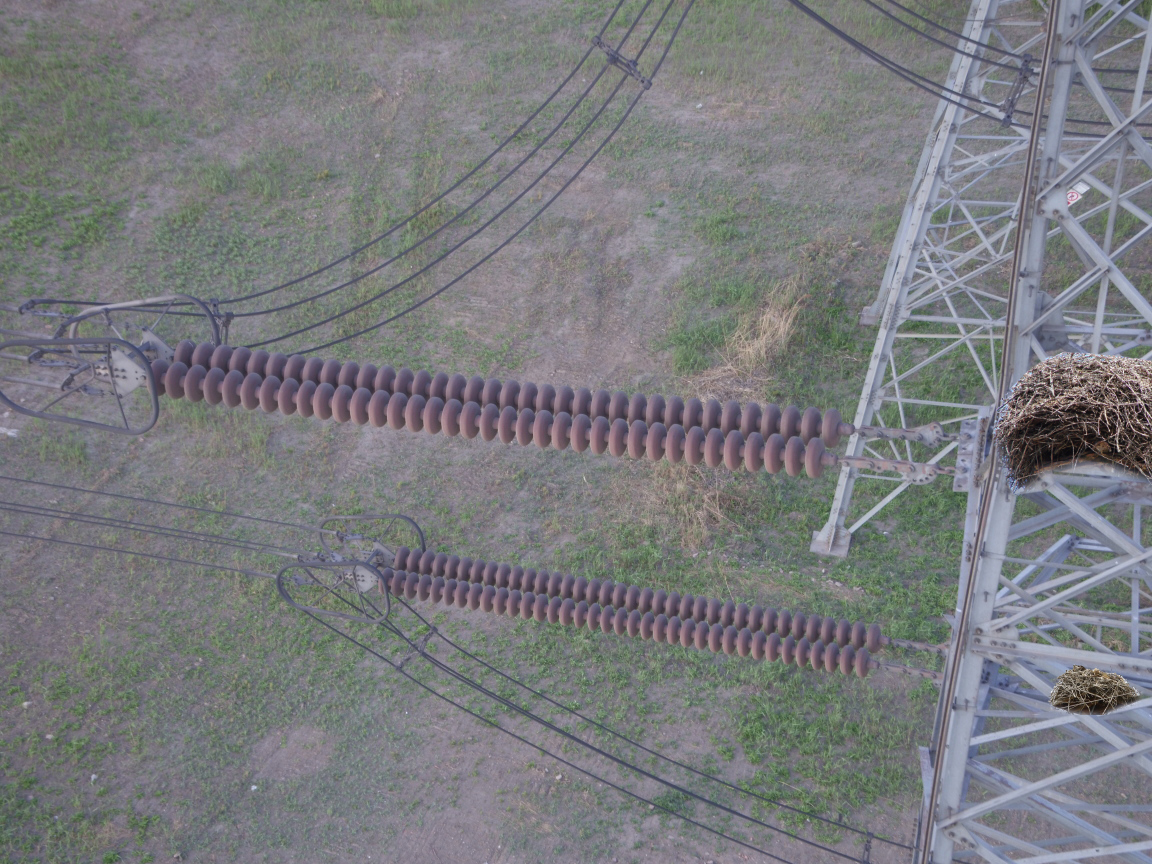nest: (989, 347, 1150, 491), (1043, 661, 1143, 720)
